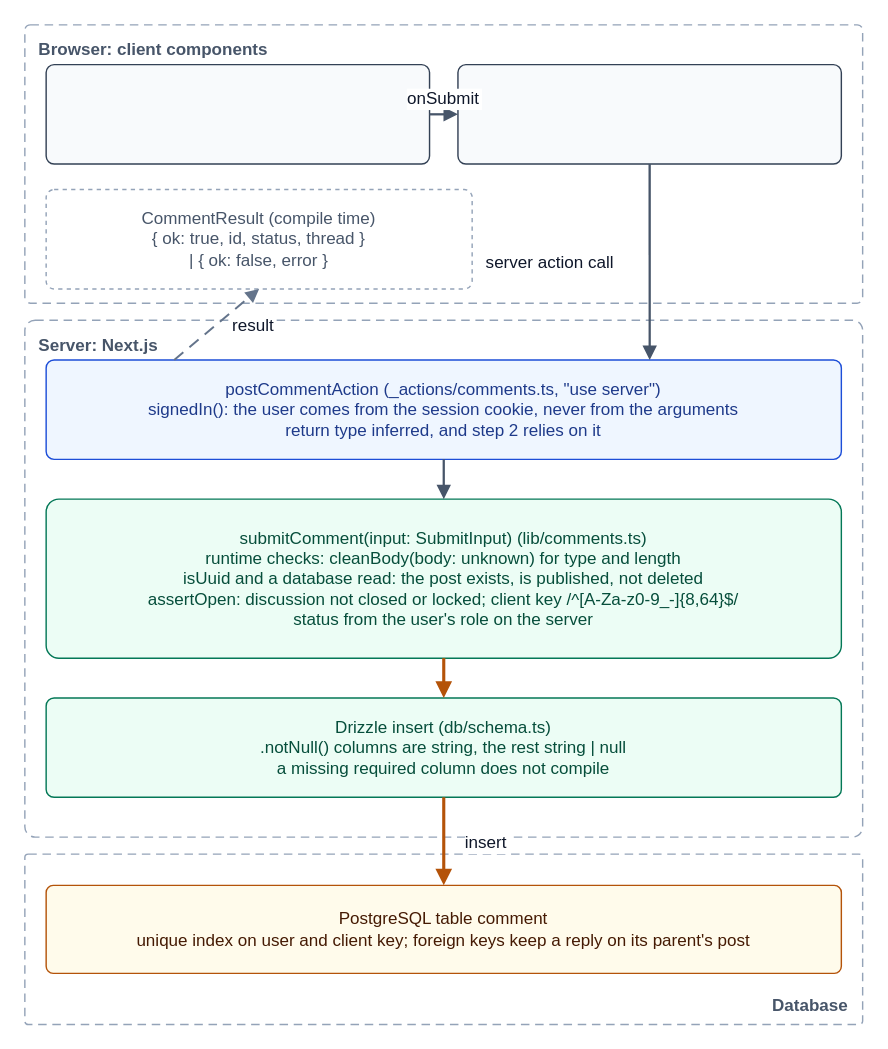
Image size: 888x1049. Some labels were removed from this diagram. Each missing label, with the centre of its shape:
Composer.tsx body: useState(initial), a string onSubmit: ComposerSubmit: (237,113)
Discussion.tsx post(body, clientKey, parentId) reads r.id only when r.ok: (649,113)
